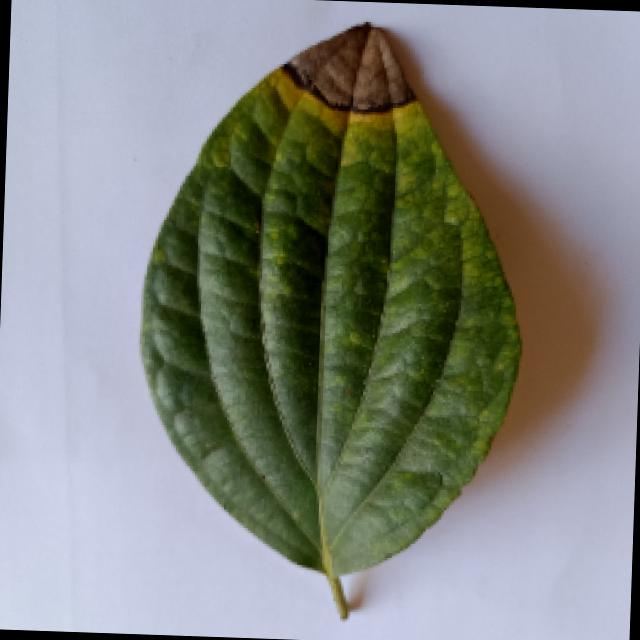footrot: (108, 18, 582, 619)
